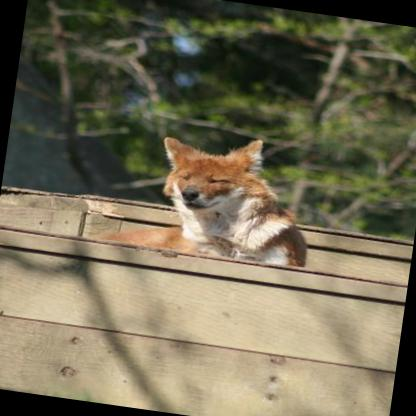dhole: (92, 118, 322, 266)
